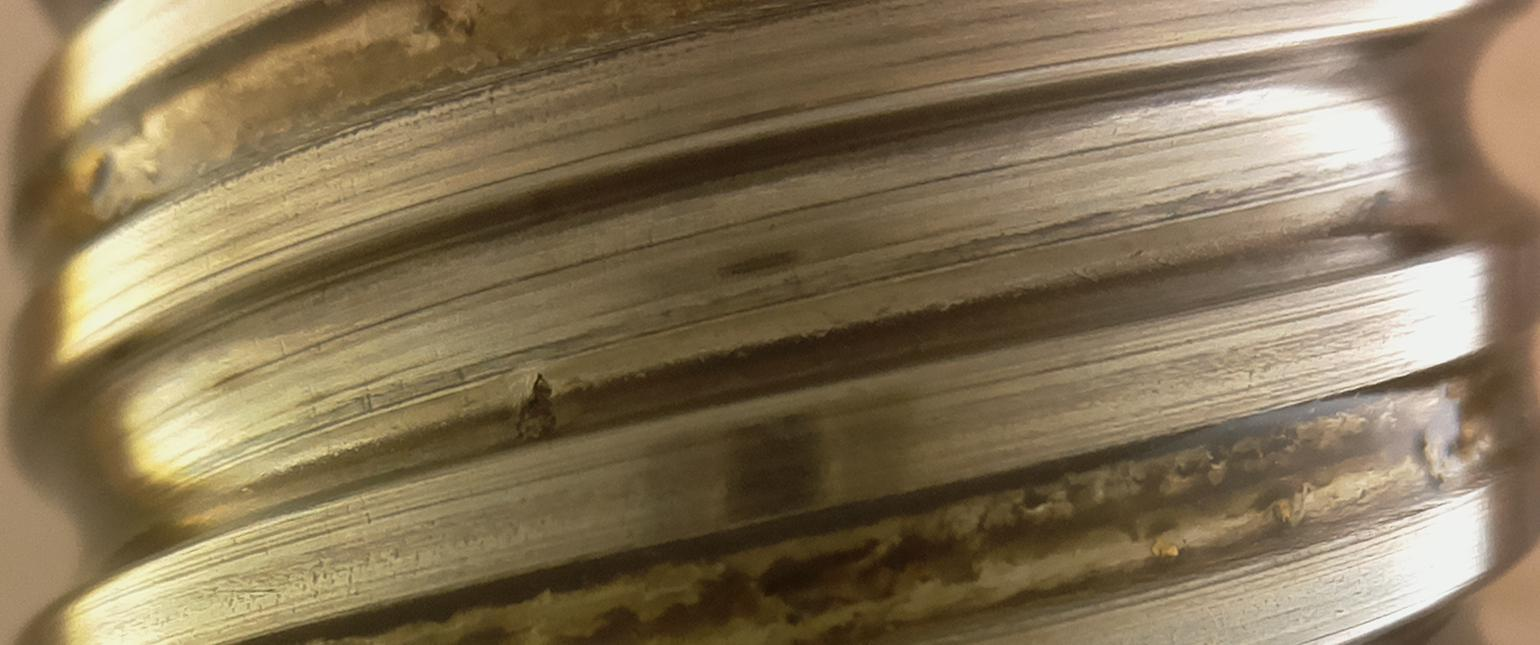pitting: (516, 373, 556, 440)
